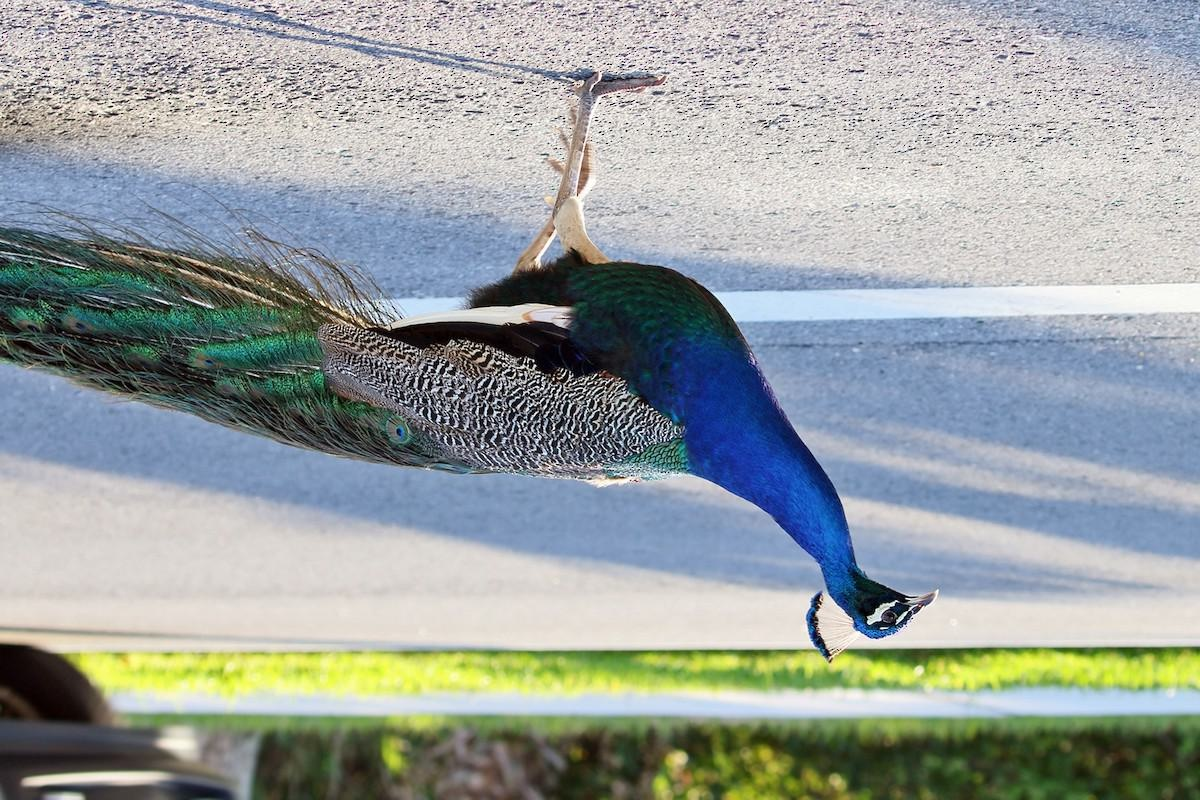peacock: (51, 107, 959, 662)
